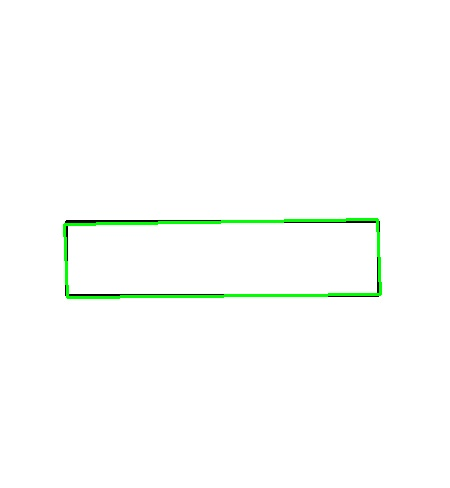line_segment: (64, 219, 381, 298)
